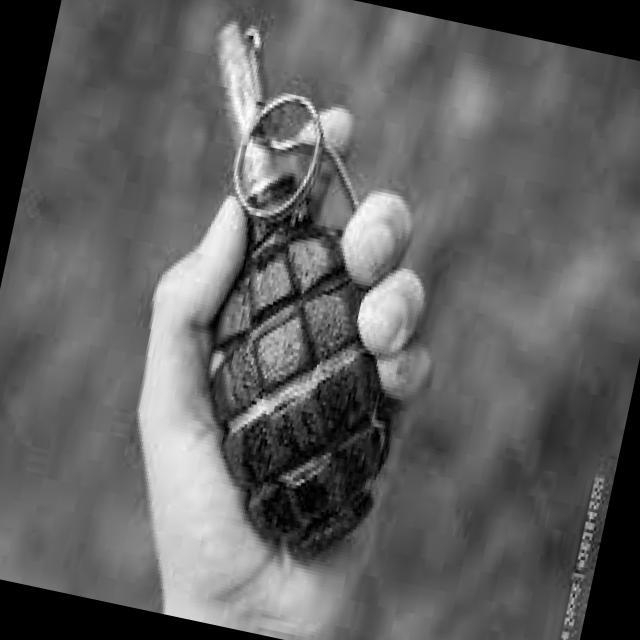grenade: (101, 14, 468, 575)
